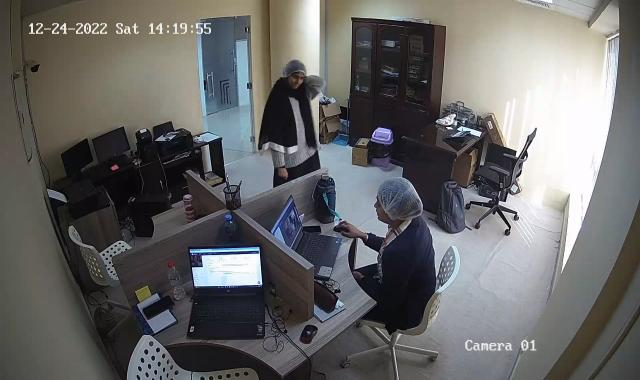hairnet: (374, 174, 422, 223), (284, 57, 309, 92)
